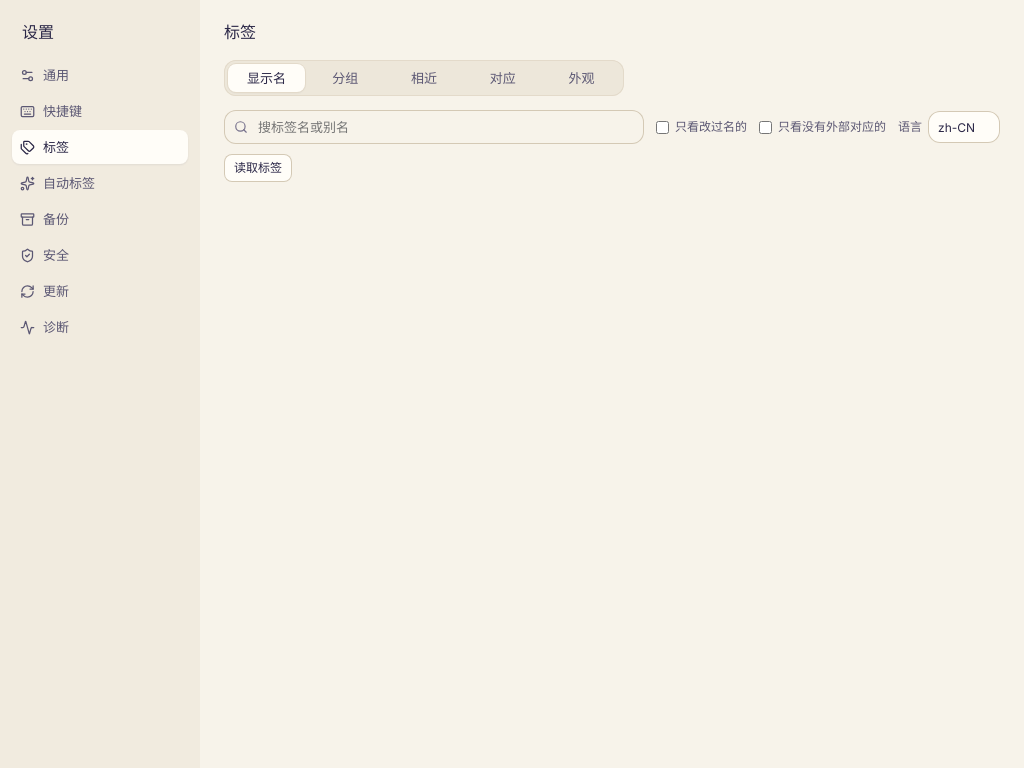
lists and deletes application rules without an active library
The width and height of the screenshot is (1024, 768).
Click the button "相近".
click(424, 78)  # box 386,64 -> 462,92
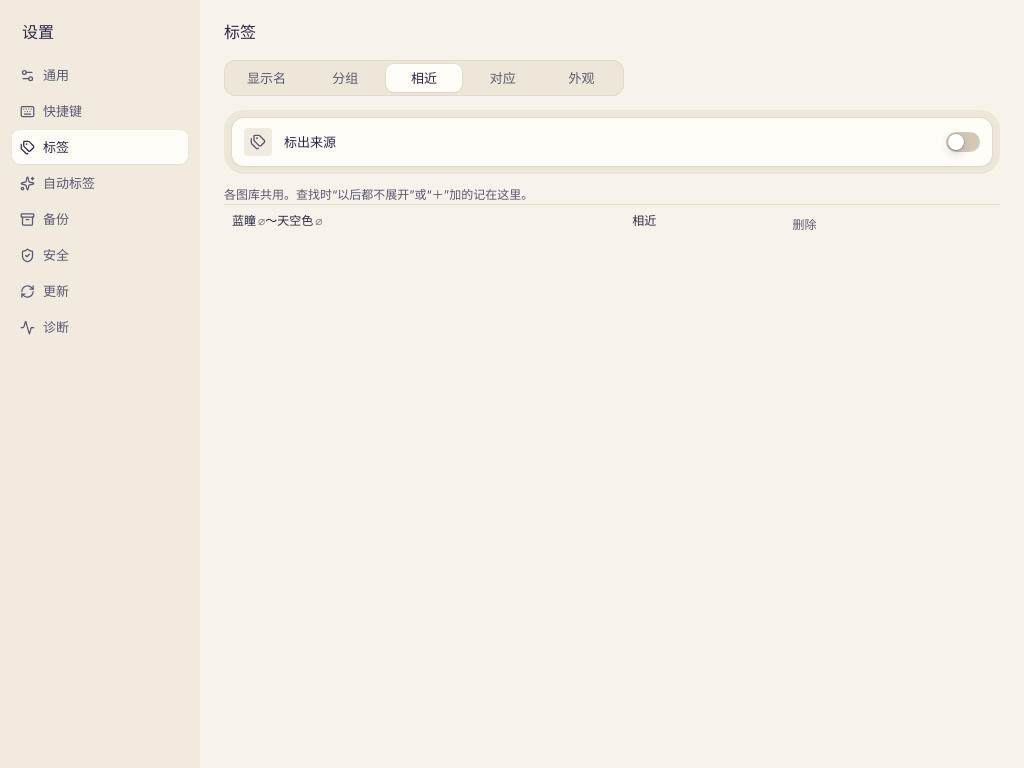
expect the text "蓝瞳～天空色" is shown: met, box 224,204 -> 624,245
Click the button "删除".
click(804, 225)  # box 782,211 -> 826,239
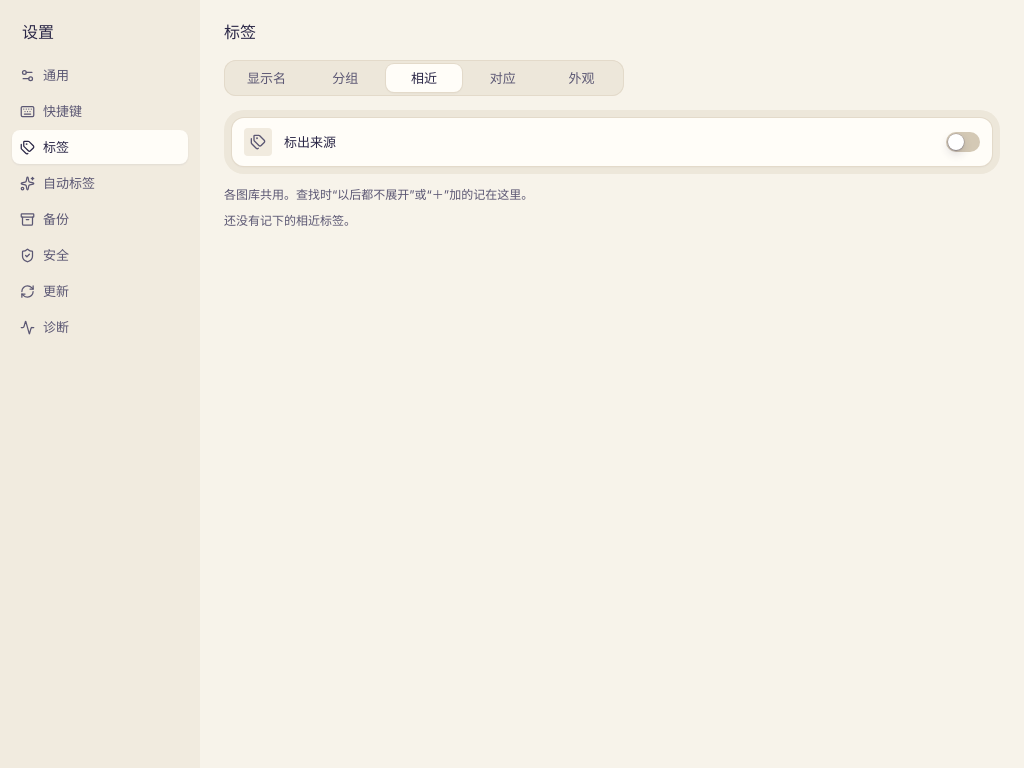
expect the table "相近标签表" is gone: met
